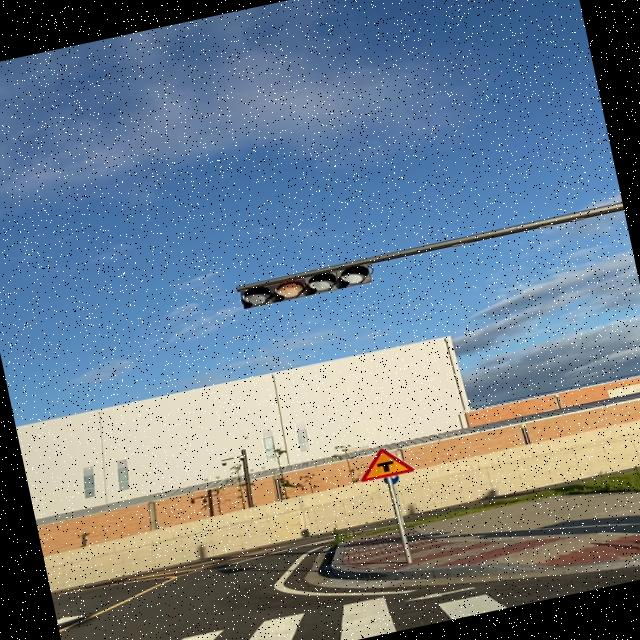yellow_light: (240, 262, 372, 310)
